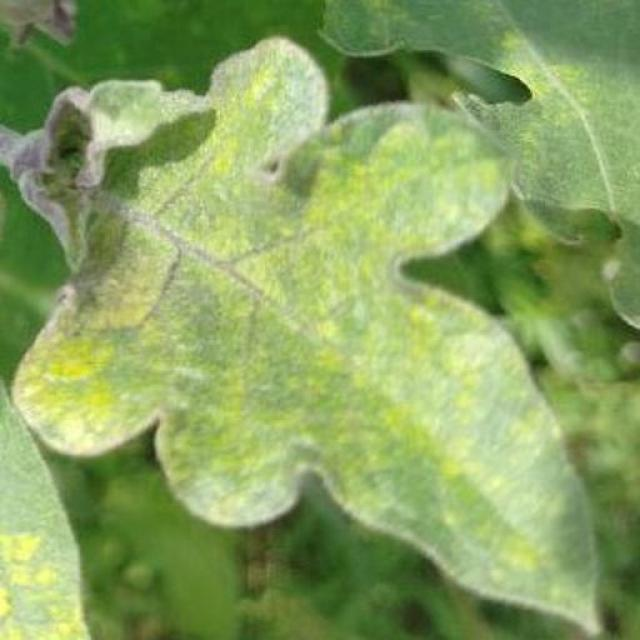leaf_spot: (293, 85, 525, 237), (185, 263, 334, 489), (402, 453, 569, 617), (99, 63, 314, 181), (307, 330, 442, 514), (0, 303, 162, 446), (153, 150, 303, 292), (103, 206, 224, 365), (321, 214, 446, 366), (6, 96, 126, 228), (5, 510, 91, 640), (418, 306, 499, 443), (496, 28, 594, 129), (479, 354, 562, 468), (214, 33, 322, 100), (585, 227, 640, 290)
